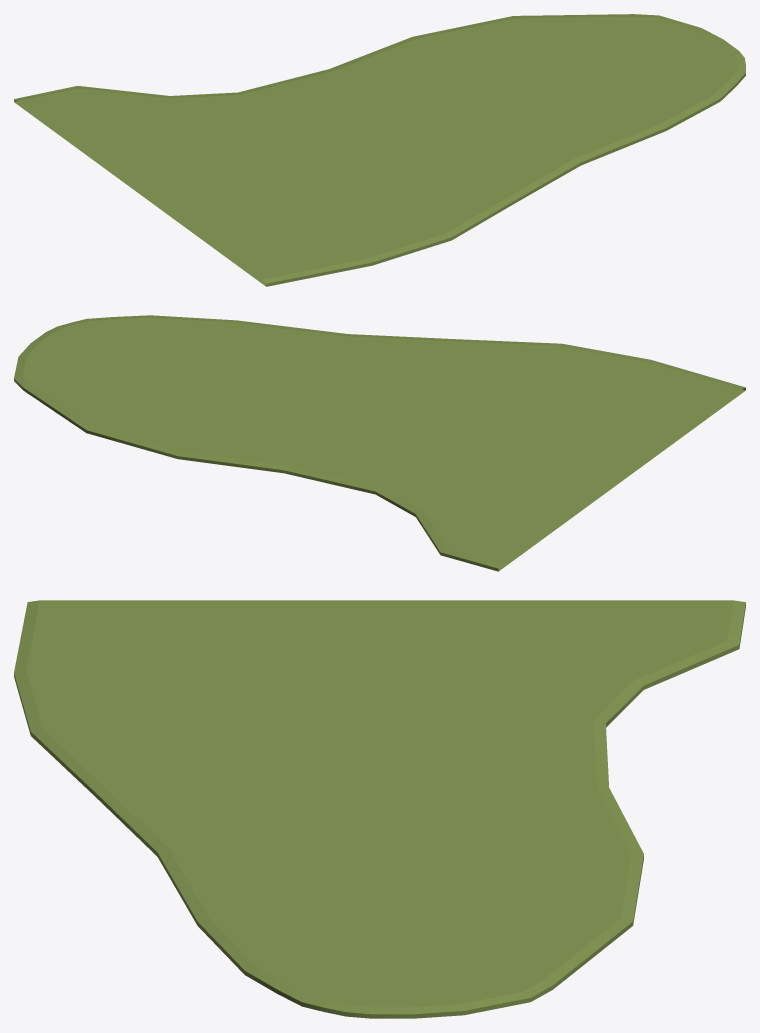
Rendered from carpet_01.fbx.
3 views of the same model, one above another, from view 1: azimuth 30°, elevation 25°; view 2: azimuth 150°, elevation 25°; view 3: azimuth 270°, elevation 25° (orthographic). The views are drawn at different scales.
Parts seen in each view (by area): view 1: pPlane1; view 2: pPlane1; view 3: pPlane1.
Boxes of the visible parts, bbox=[...] form: pPlane1: bbox=[14, 14, 745, 286]; pPlane1: bbox=[14, 315, 745, 571]; pPlane1: bbox=[14, 600, 745, 1018].
Bounding box in the file's own units: 228 × 1.59 × 171.
